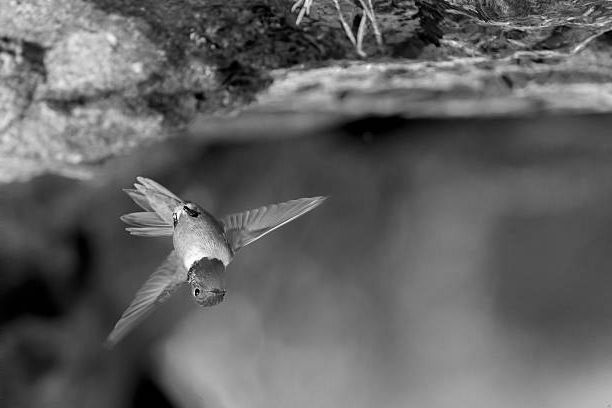Bird: (101, 166, 331, 352)
